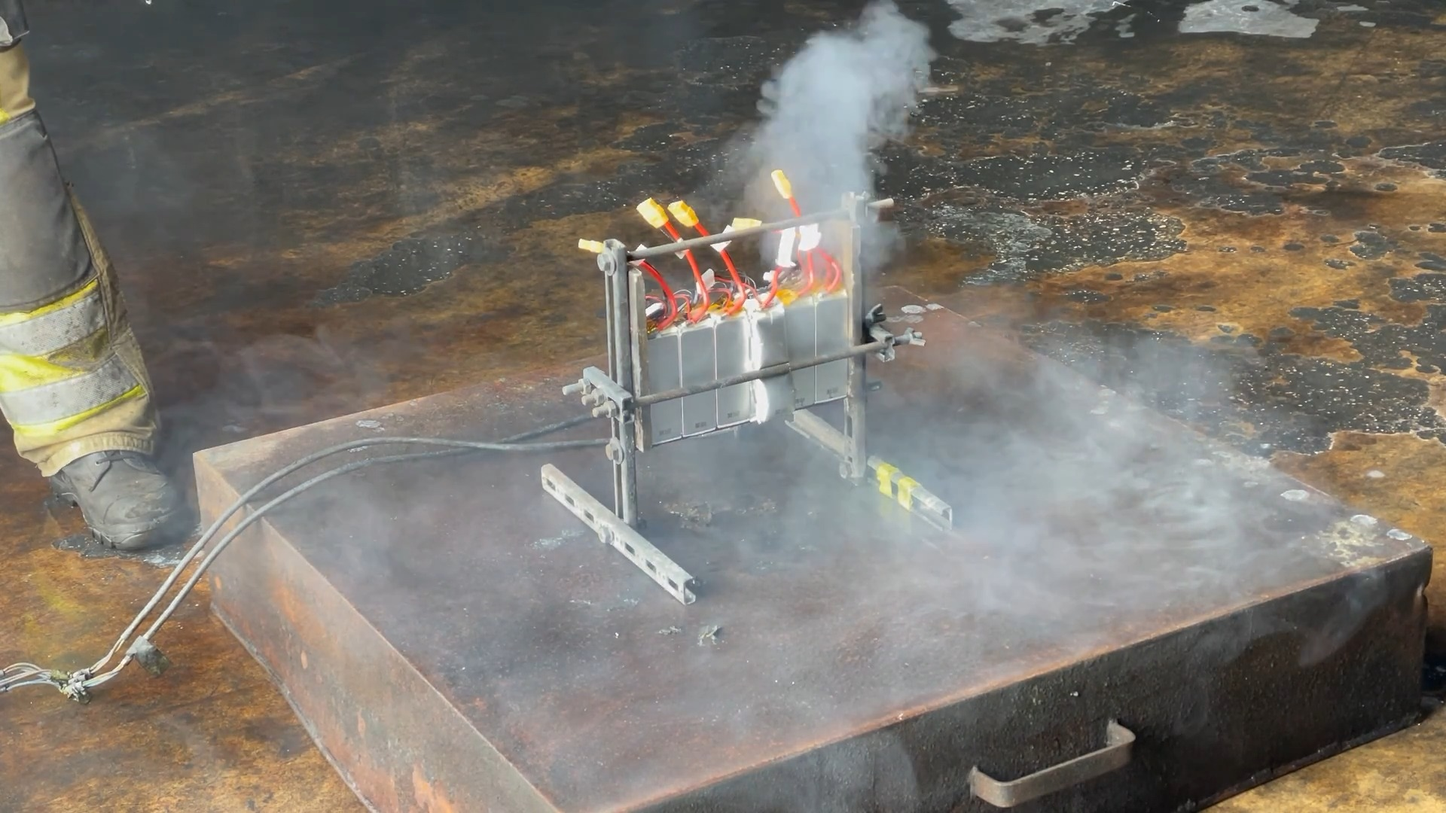smoke: (58, 113, 872, 746), (865, 288, 1304, 648), (715, 0, 945, 303)
